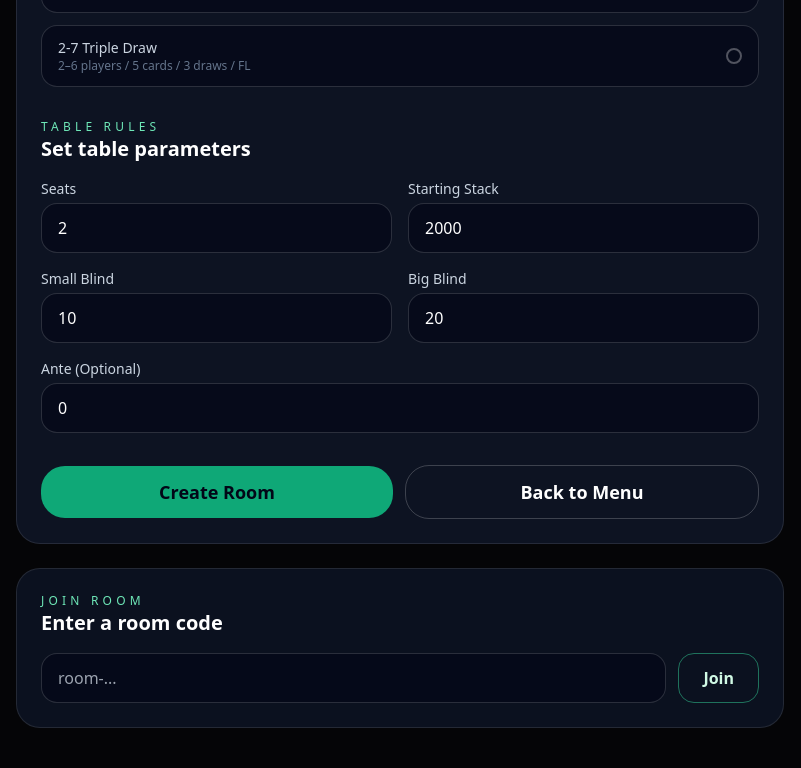
FriendMatchSetupScreen › creates an authenticated room and synchronizes with the canonical protocol
(page scrolled)
Click the button "Create Room": point(217, 492) left=41, top=466, right=393, bottom=518
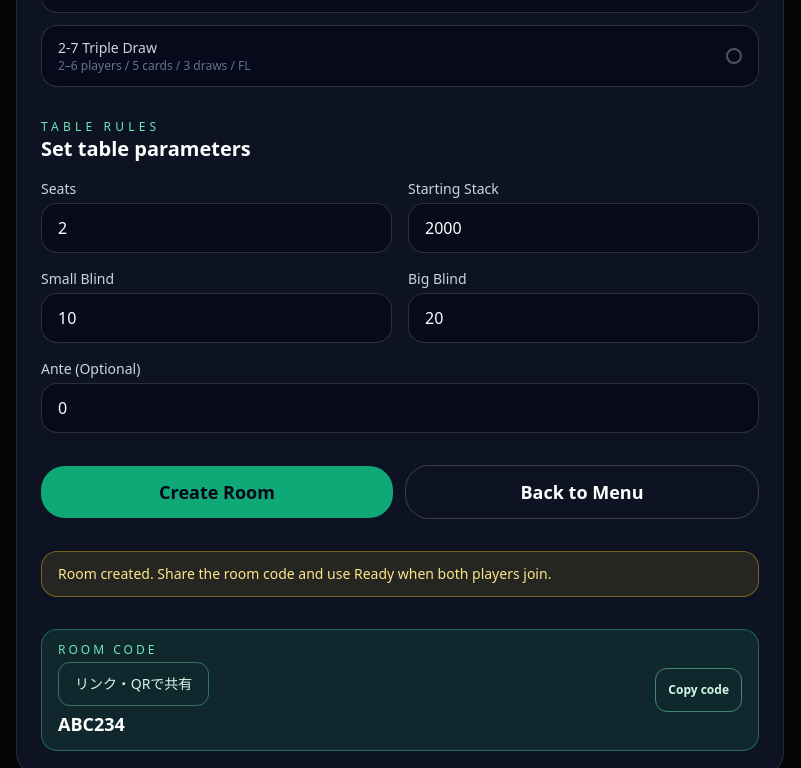
Check: the text "Room created" is shown, box left=58, top=564, right=551, bottom=583
Check: the text "ABC234" is shown, box left=58, top=712, right=125, bottom=736
